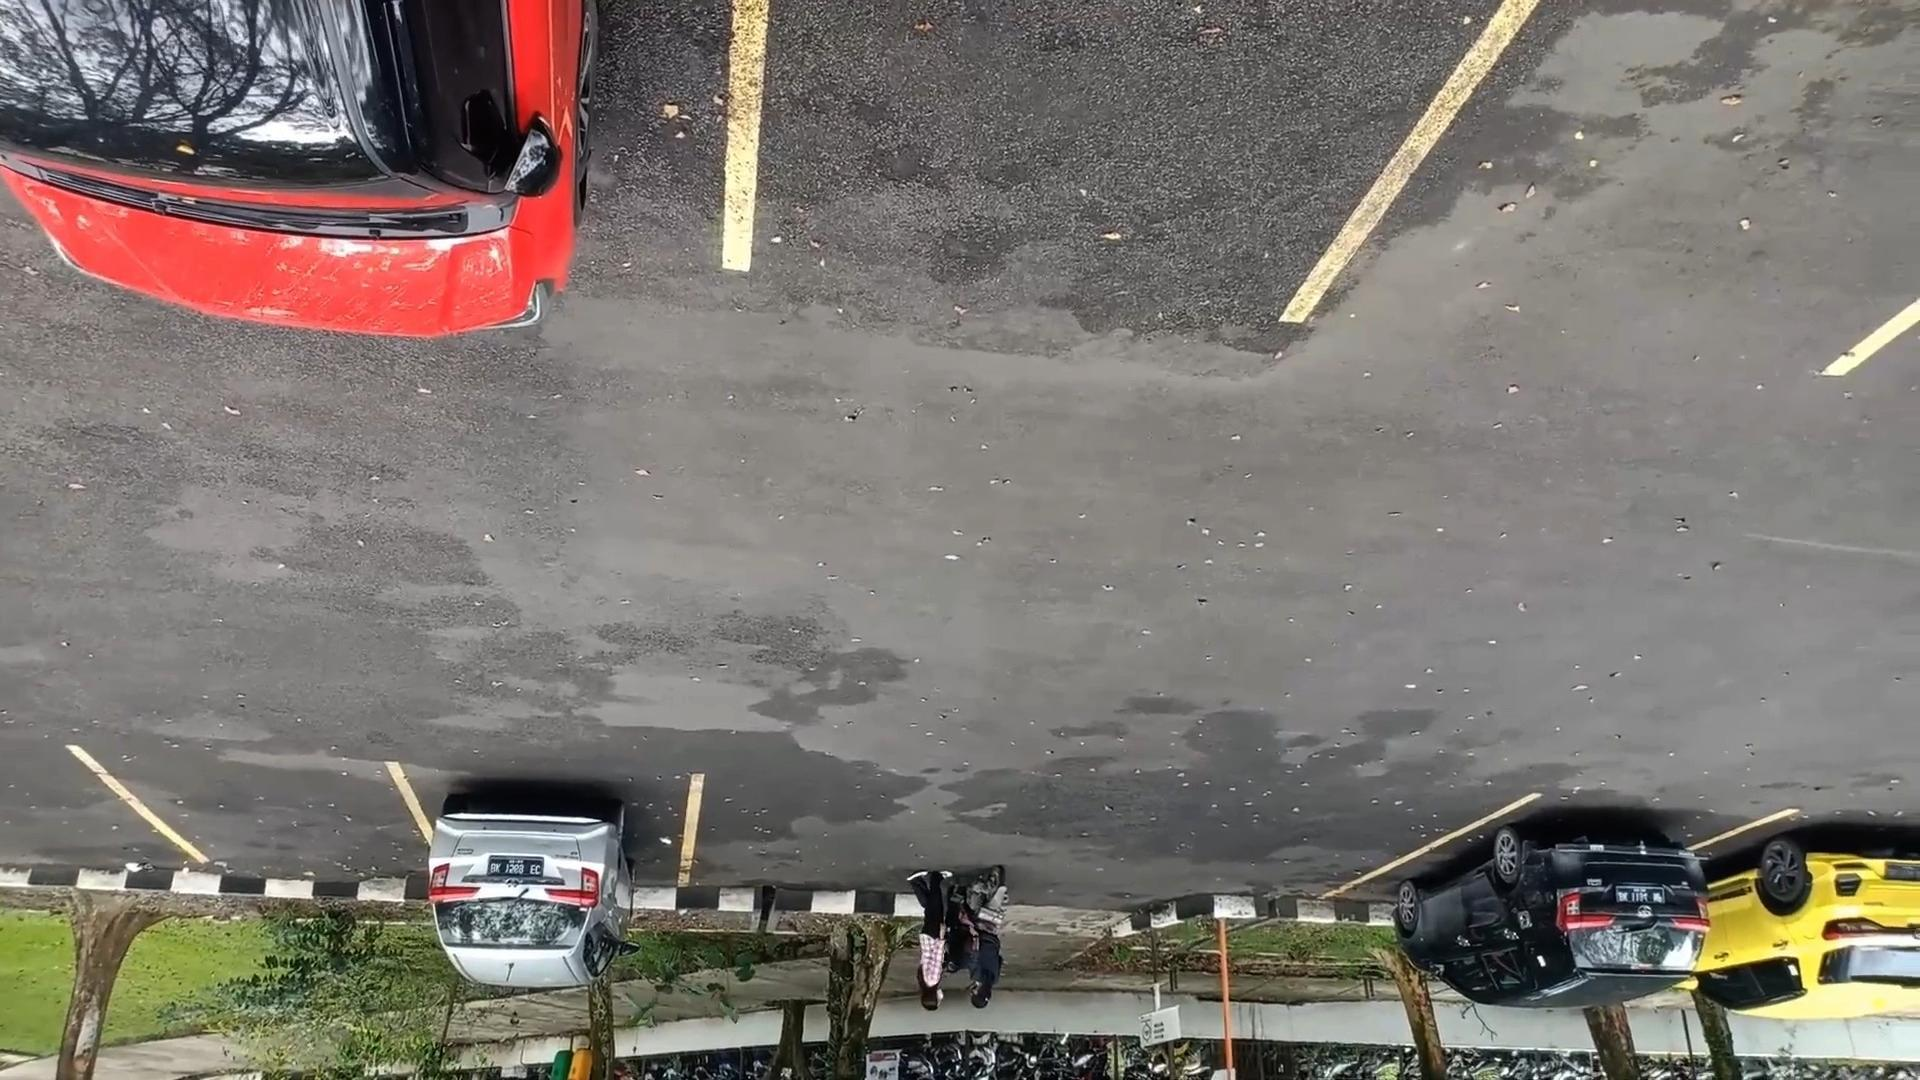empty: (725, 0, 1416, 322), (1412, 0, 1920, 373), (114, 756, 422, 889)
occupied: (1389, 792, 1718, 969), (415, 768, 698, 935), (1712, 805, 1920, 991)
